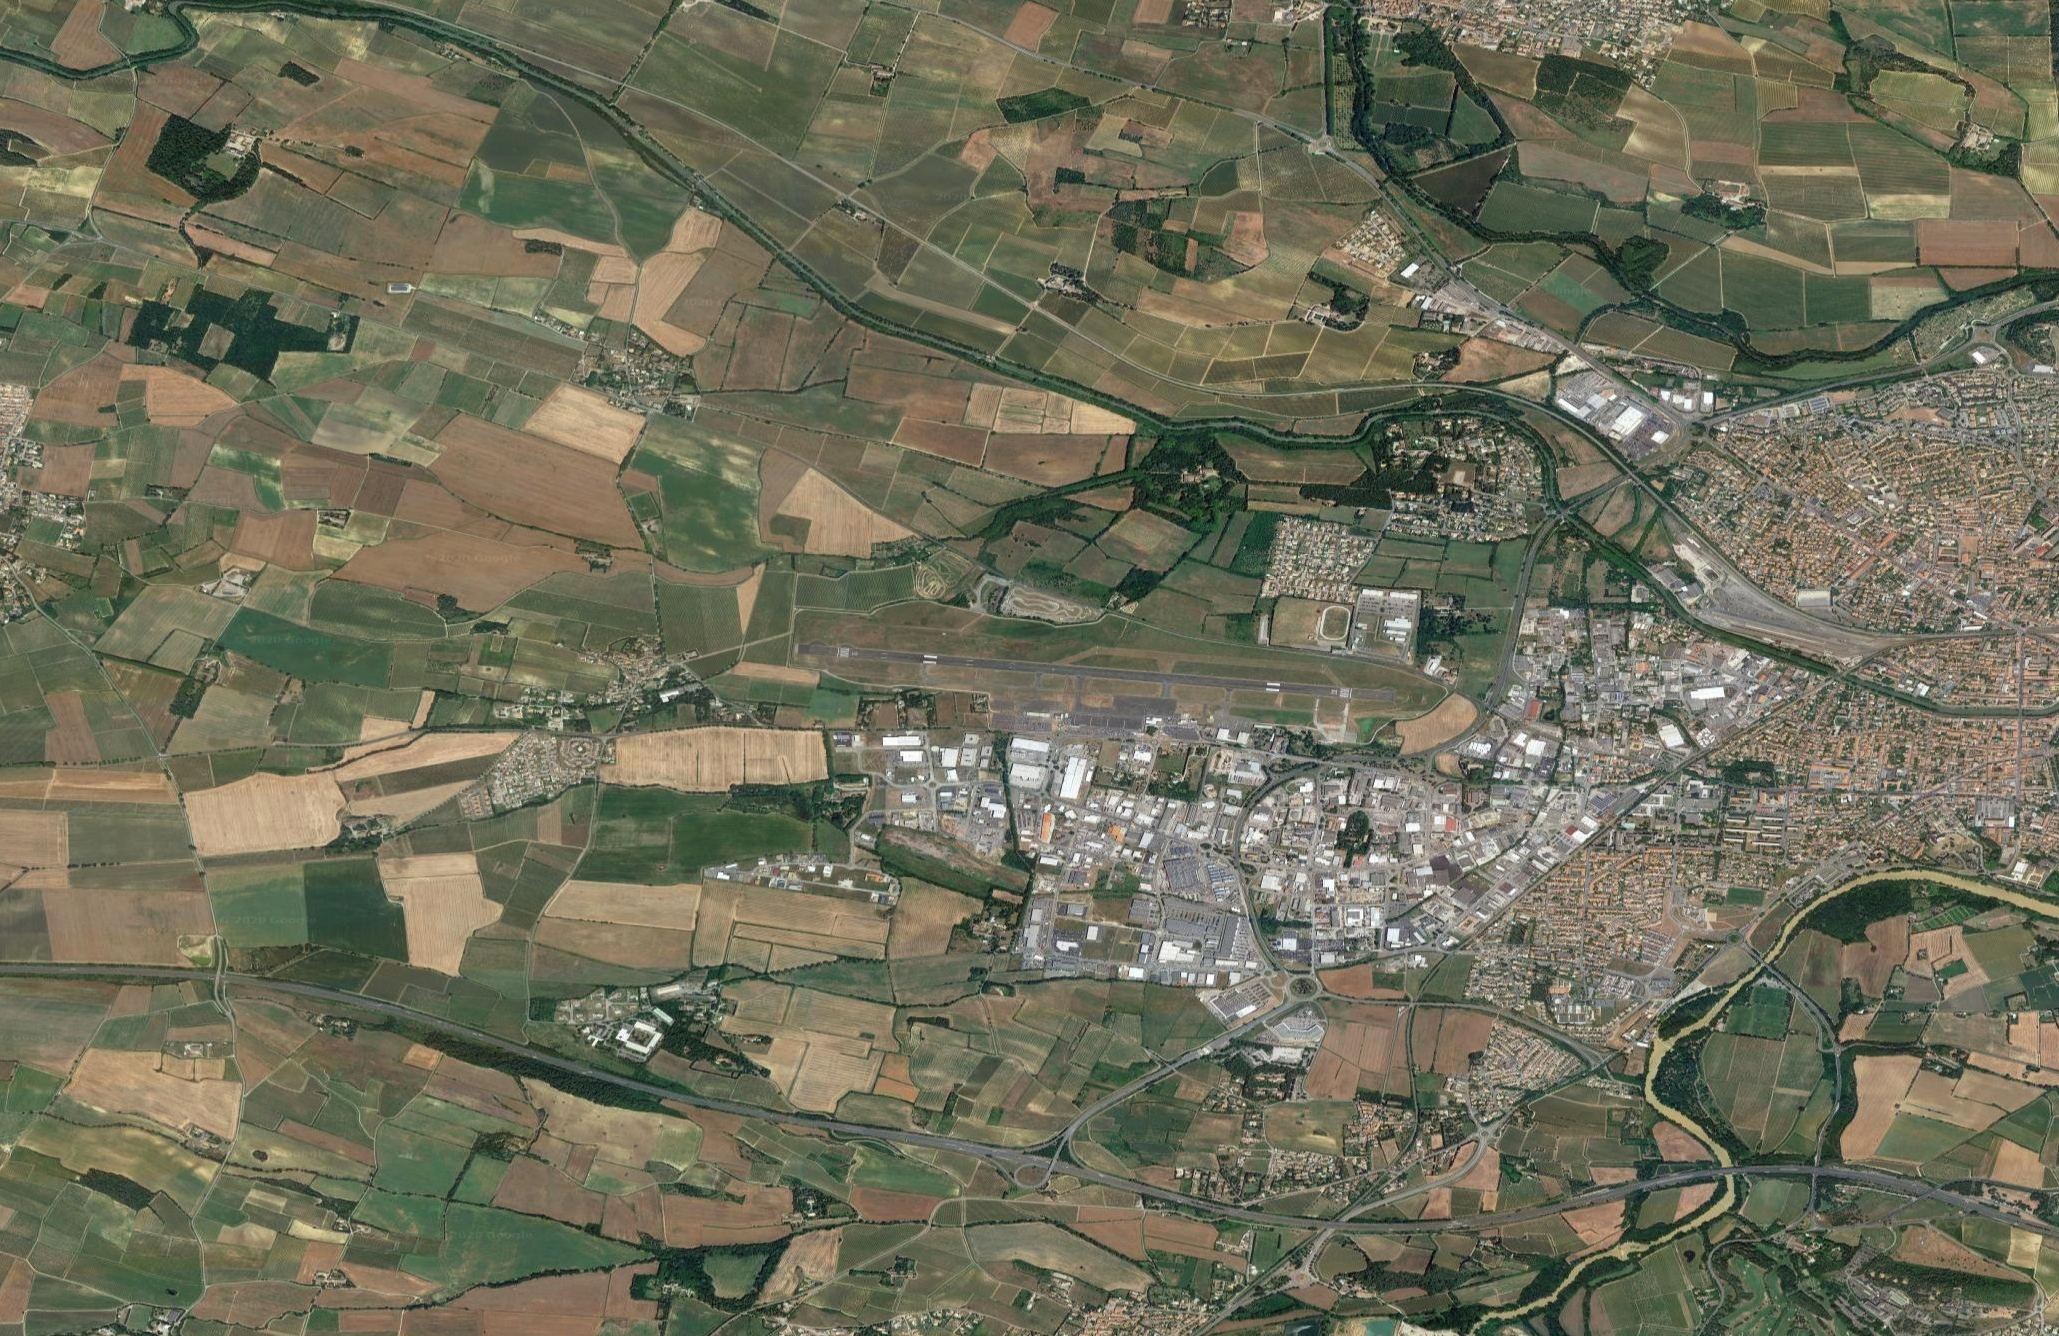airport: (792, 636, 1399, 742)
motorway: (1724, 1162, 2059, 1235), (377, 1003, 585, 1076), (1510, 1169, 1720, 1226), (585, 1064, 762, 1117), (1090, 1171, 1270, 1220), (182, 967, 378, 1012), (762, 1106, 941, 1145), (942, 1139, 1094, 1181), (1270, 1213, 1507, 1235), (2, 964, 182, 982)
